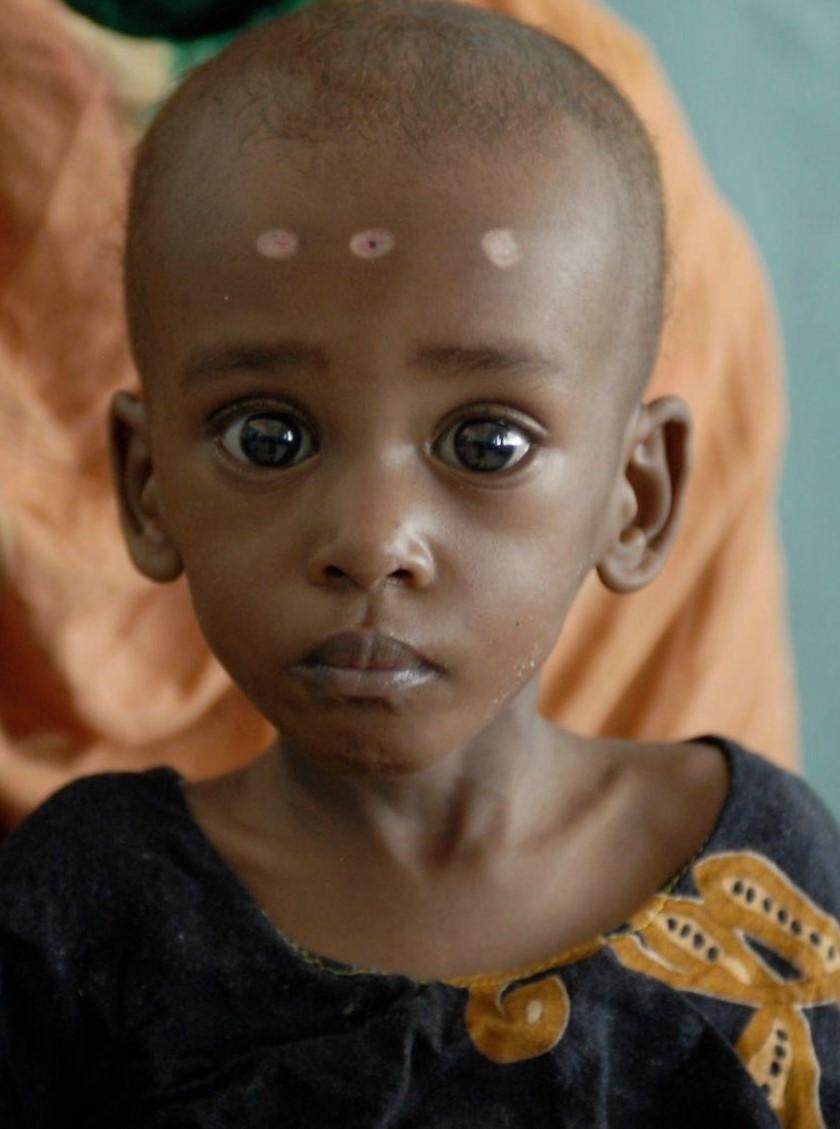Stunting: (77, 37, 710, 827)
